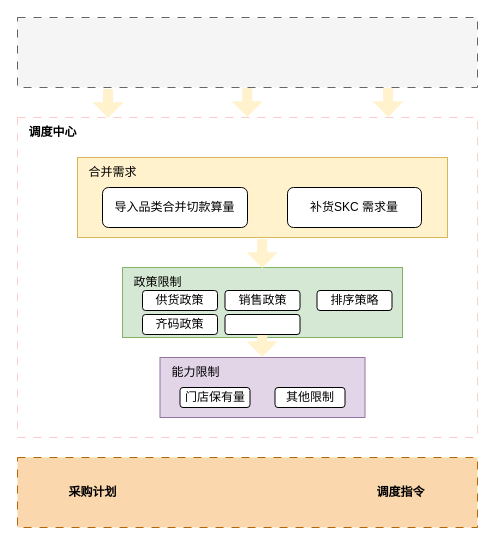
The diagram is 495 pixels wide and 545 high, and some of its shapes have lost their labels. The shapes that lost their labels are listed below. From the top down, each one's box as (x1, y1, x2, y2) in pixels, then its label:
(16, 16, 478, 88): 单店企划需求量
(224, 314, 300, 334): 留仓政策
